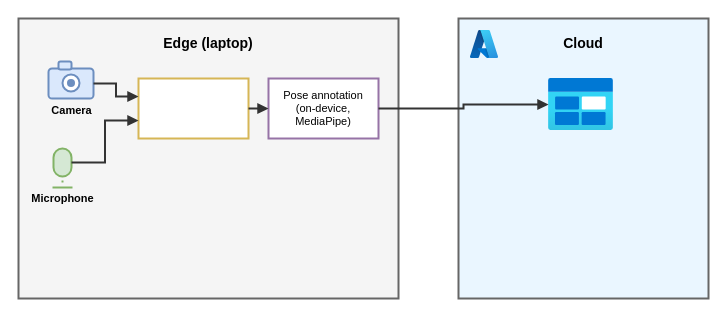
Some shapes in this 726 by 316 pixel diagram are drawn without their labels. The shapes that lost their labels are listed below. From the top down, each one's centre as x and y in pixels, then its label:
the point at 193,108: Raw data (video + audio, local disk)
the point at 580,104: Blob storage
